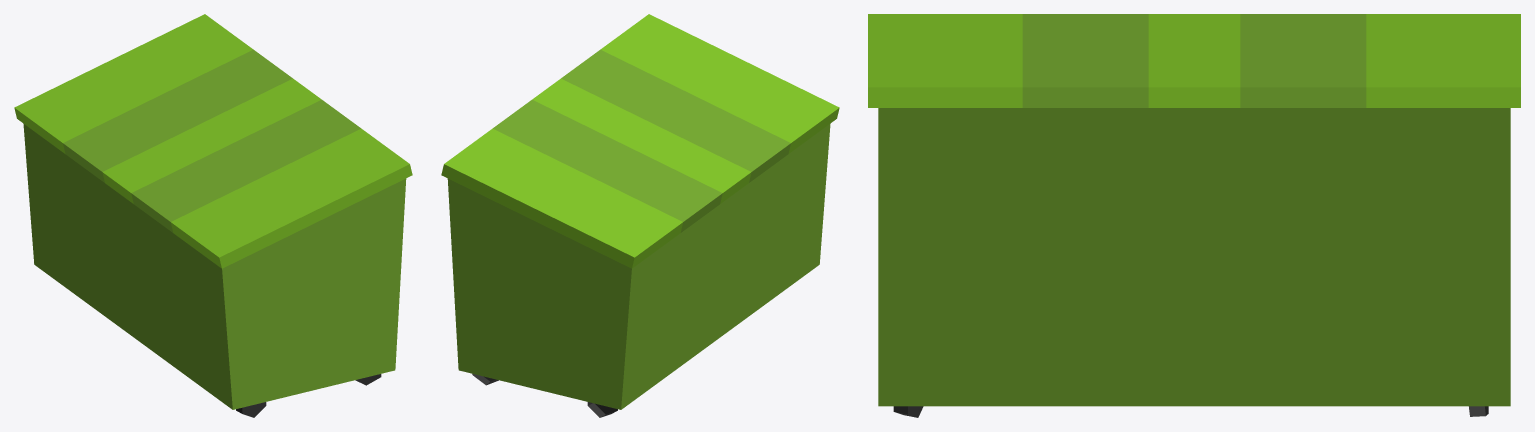
File: trashbin_02.fbx
3 views of the same model, side by side, from view 1: azimuth 30°, elevation 25°; view 2: azimuth 150°, elevation 25°; view 3: azimuth 270°, elevation 25° (orthographic). The views are drawn at different scales.
Parts seen in each view (by area): view 1: trashbin_02; view 2: trashbin_02; view 3: trashbin_02.
Part boxes in pixels (bbox=[...]): trashbin_02: bbox=[14, 14, 412, 417]; trashbin_02: bbox=[441, 14, 839, 417]; trashbin_02: bbox=[868, 14, 1520, 417].
Size of the model in its own units: 1.33 by 1.46 by 2.45.
